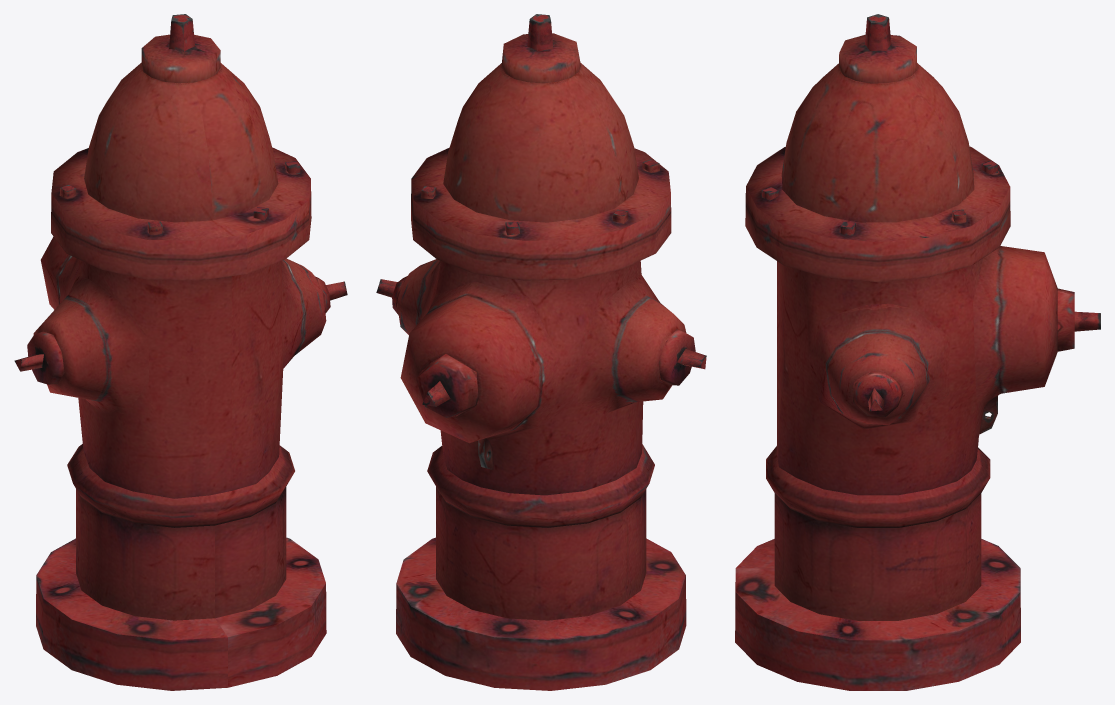
The model's file is Fire_Hydrant.glb.
The picture shows the model from 3 angles, left to right: view 1: azimuth 30°, elevation 25°; view 2: azimuth 150°, elevation 25°; view 3: azimuth 270°, elevation 25°; orthographic projection.
Parts seen in each view (by area): view 1: Fire_Hydrant__LOD3; view 2: Fire_Hydrant__LOD3; view 3: Fire_Hydrant__LOD3.
Boxes of the visible parts, left/top/right/bottom form: Fire_Hydrant__LOD3: left=14, top=14, right=347, bottom=690; Fire_Hydrant__LOD3: left=376, top=14, right=706, bottom=690; Fire_Hydrant__LOD3: left=735, top=14, right=1100, bottom=690.
Bounding box in the file's own units: 0.5502 × 0.9897 × 0.5362.
Materials: 1 (1 with a texture image).
